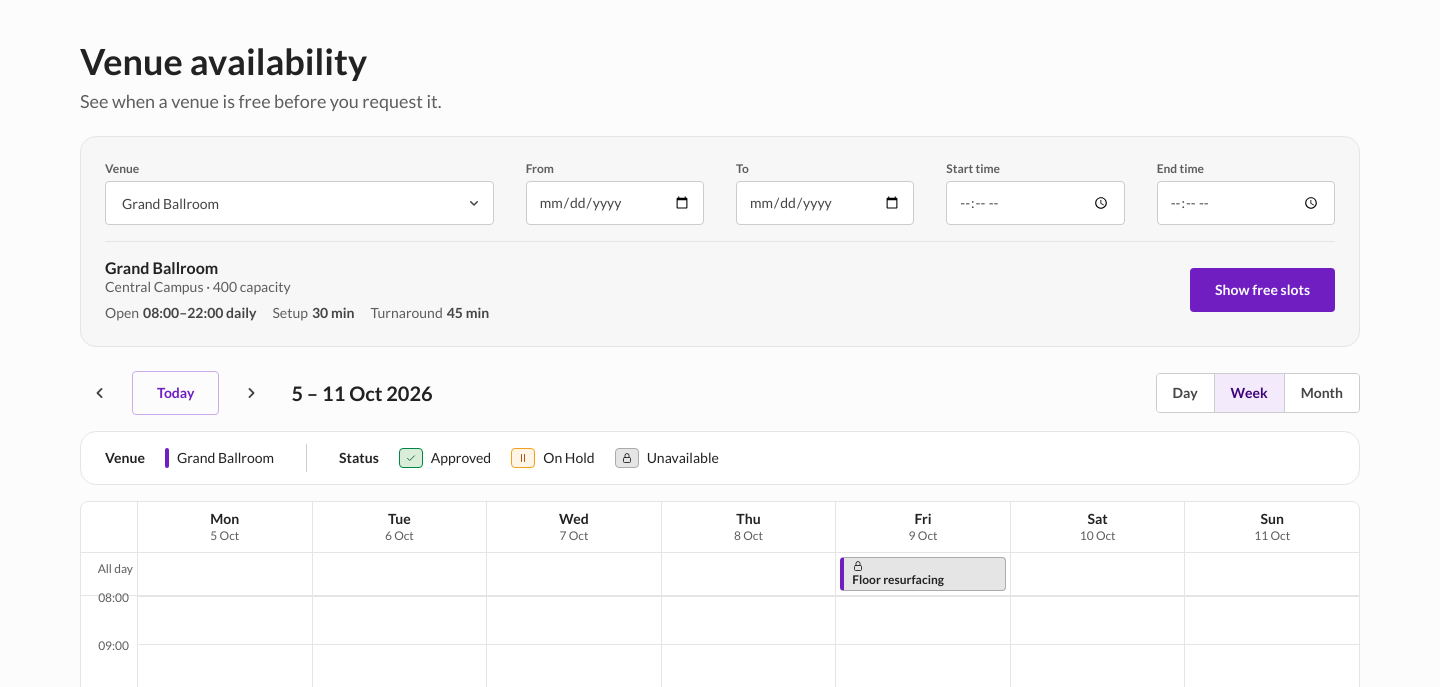
Test case: VenueAvailabilityView › AC5: requests free slots for the target and lists them
The width and height of the screenshot is (1440, 687).
Type "2026-10-10" into the date field with id "target-from" at (615, 203), box [526,181,704,225]
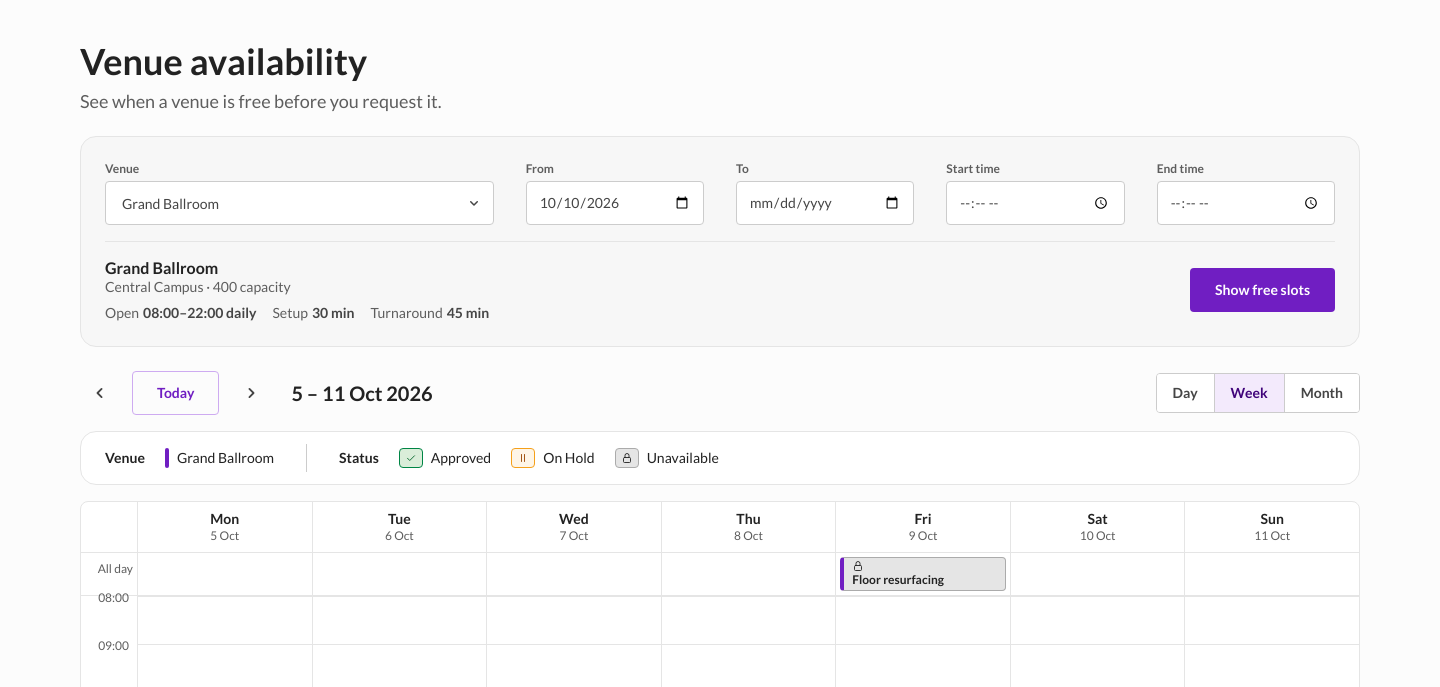
Type "2026-10-11" into the date field with id "target-to" at (825, 203), box [736,181,914,225]
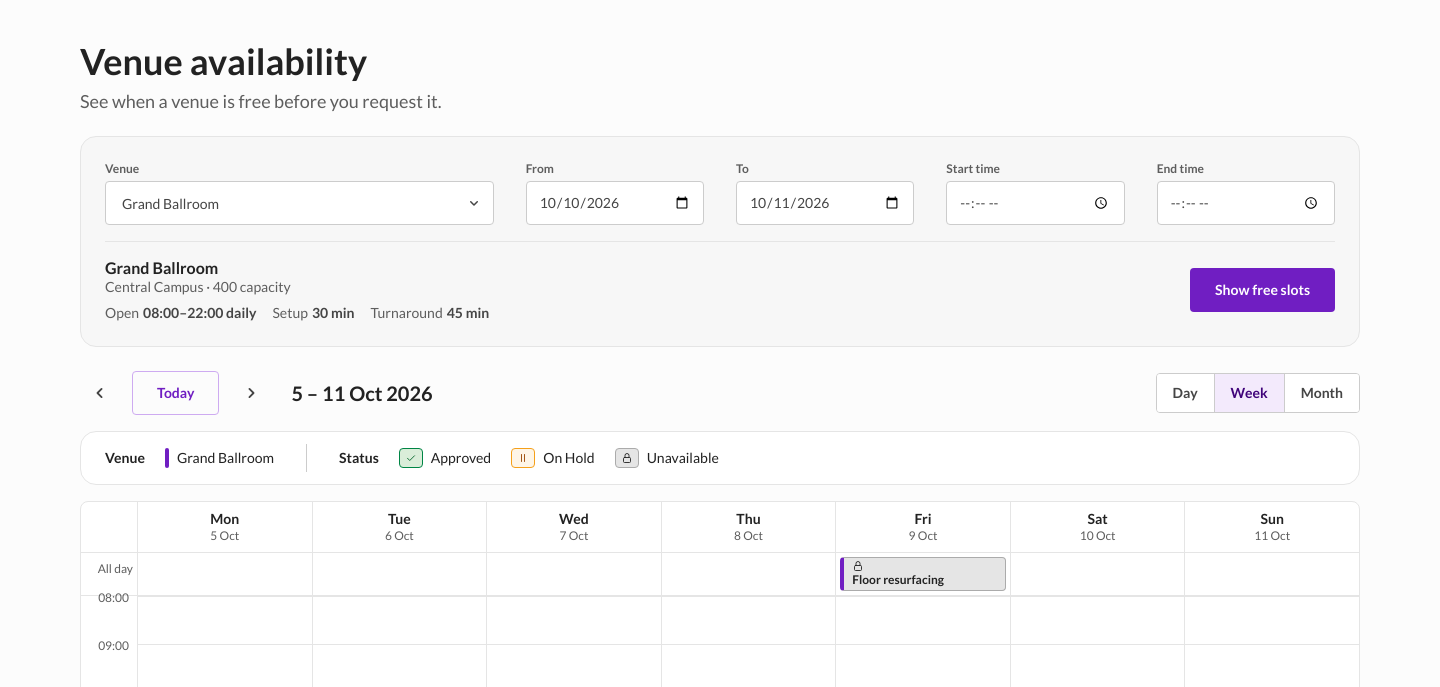
Type "12:00" into the time field with id "target-start" at (1035, 203), box [946,181,1125,225]
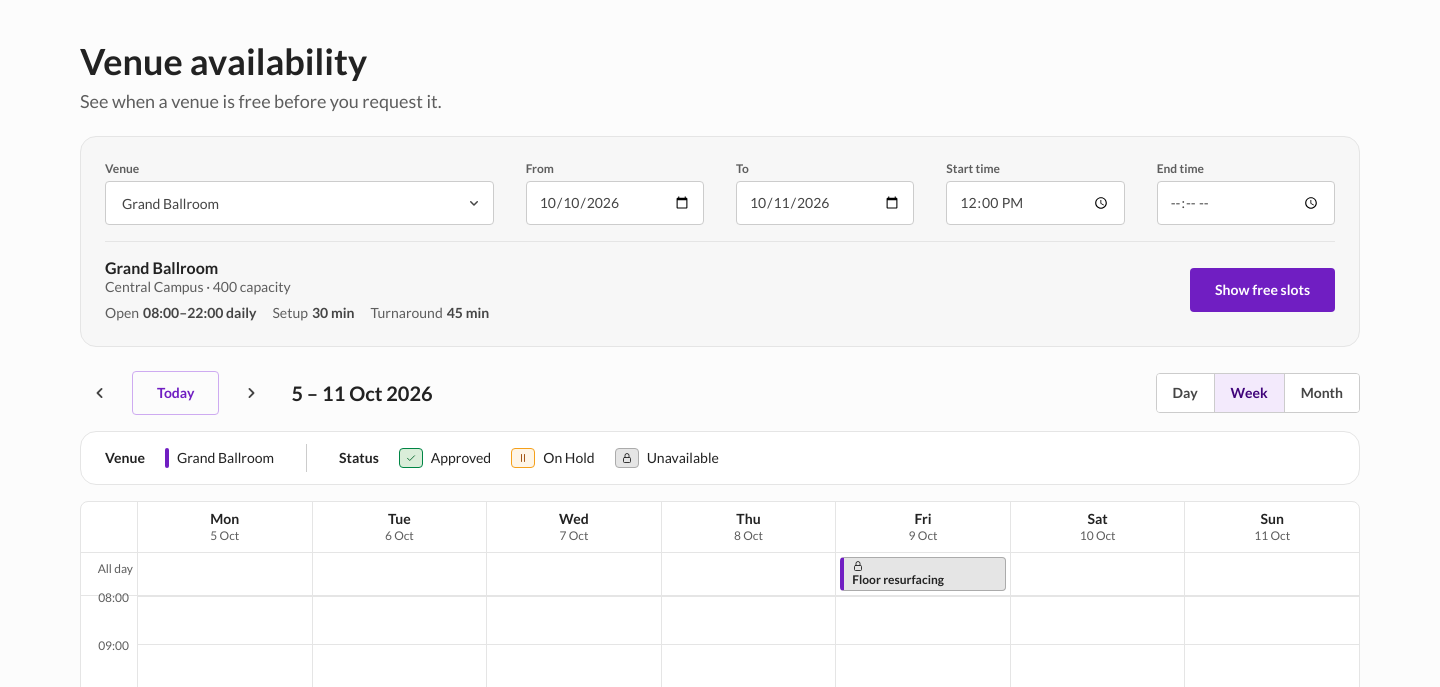
Type "18:00" into the time field with id "target-end" at (1246, 203), box [1157,181,1335,225]
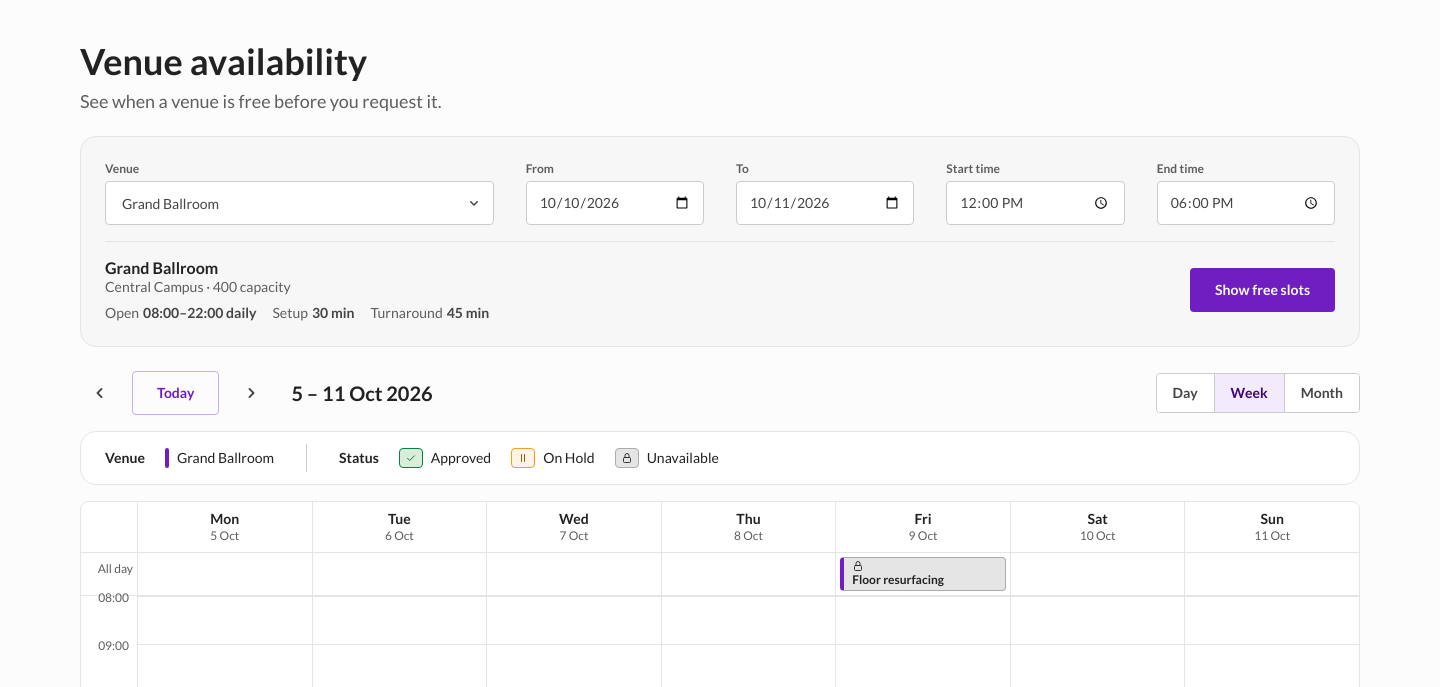
Submit the form with class "target", box [526,161,1335,225]
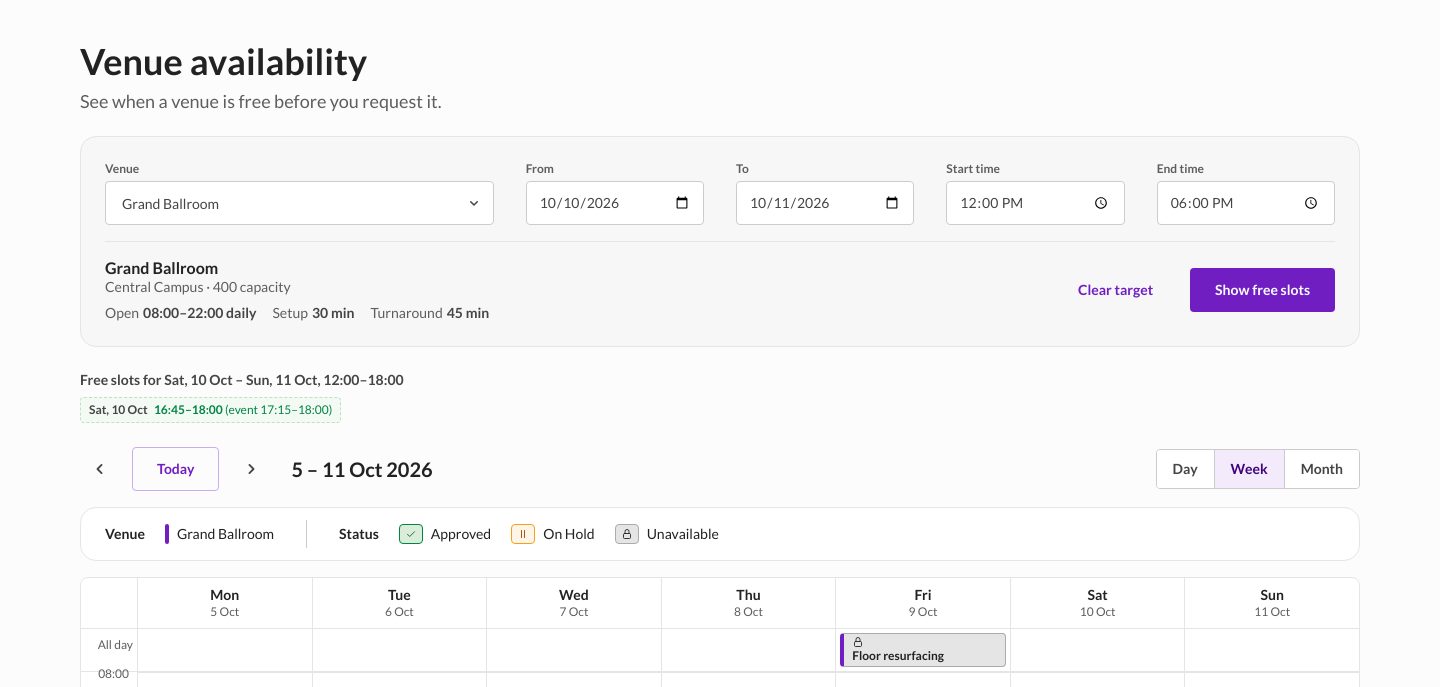
Check: the list item with class "slot-chip" shows "16:45–18:00", box [152,402,225,417]
Check: the list item with class "slot-chip" shows "event 17:15–18:00", box [225,402,332,417]
